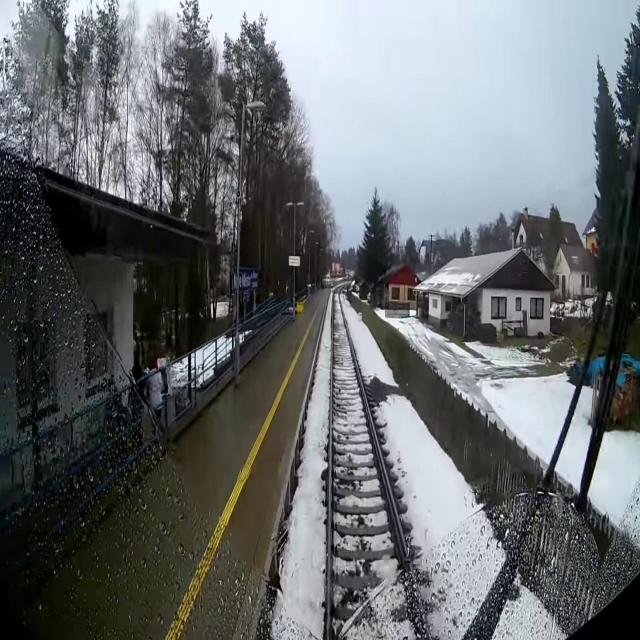rail-track: (332, 287, 427, 639)
